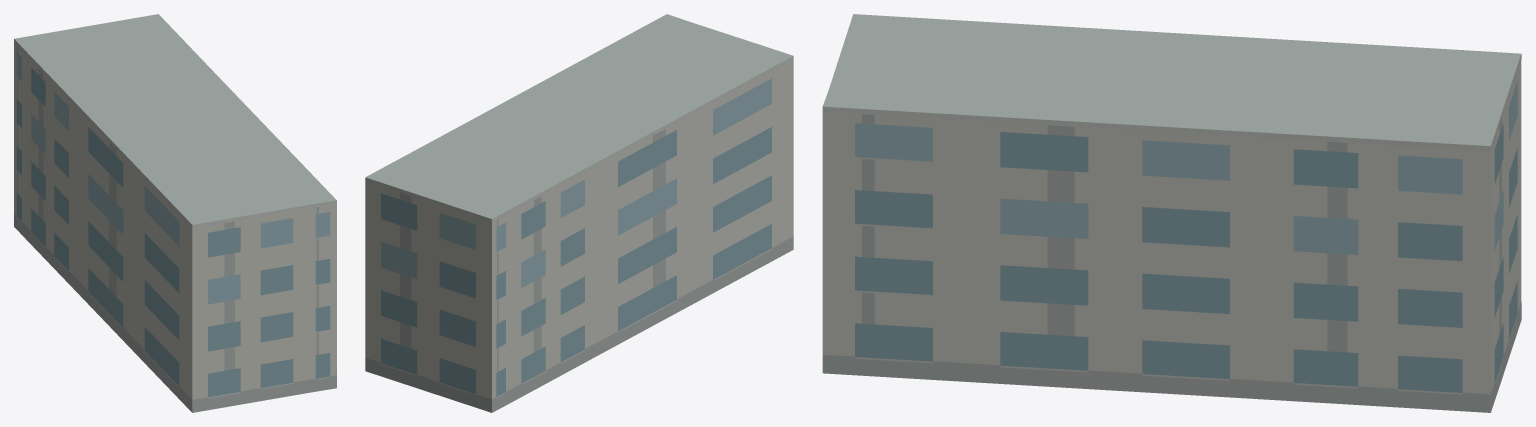
Rendered from residential-233f5bc0-b4da-4ae2-a4a6-2eb1d573caf8.glb.
3 views of the same model, side by side, from view 1: azimuth 30°, elevation 25°; view 2: azimuth 150°, elevation 25°; view 3: azimuth 270°, elevation 25° (orthographic). The views are drawn at different scales.
Visible parts, largest first — view 1: residential-233f5bc0-b4da-4ae2-a4a6-2eb1d573caf8.tmp; view 2: residential-233f5bc0-b4da-4ae2-a4a6-2eb1d573caf8.tmp; view 3: residential-233f5bc0-b4da-4ae2-a4a6-2eb1d573caf8.tmp.
Part boxes in pixels (x1=…): residential-233f5bc0-b4da-4ae2-a4a6-2eb1d573caf8.tmp: x1=14, y1=14, x2=336, y2=412; residential-233f5bc0-b4da-4ae2-a4a6-2eb1d573caf8.tmp: x1=365, y1=14, x2=793, y2=412; residential-233f5bc0-b4da-4ae2-a4a6-2eb1d573caf8.tmp: x1=822, y1=14, x2=1521, y2=412.
Size of the model in its own units: 12.97 by 12.2 by 28.98.
